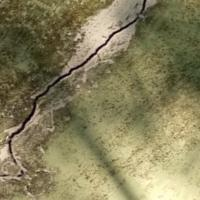crack: (4, 0, 173, 184)
